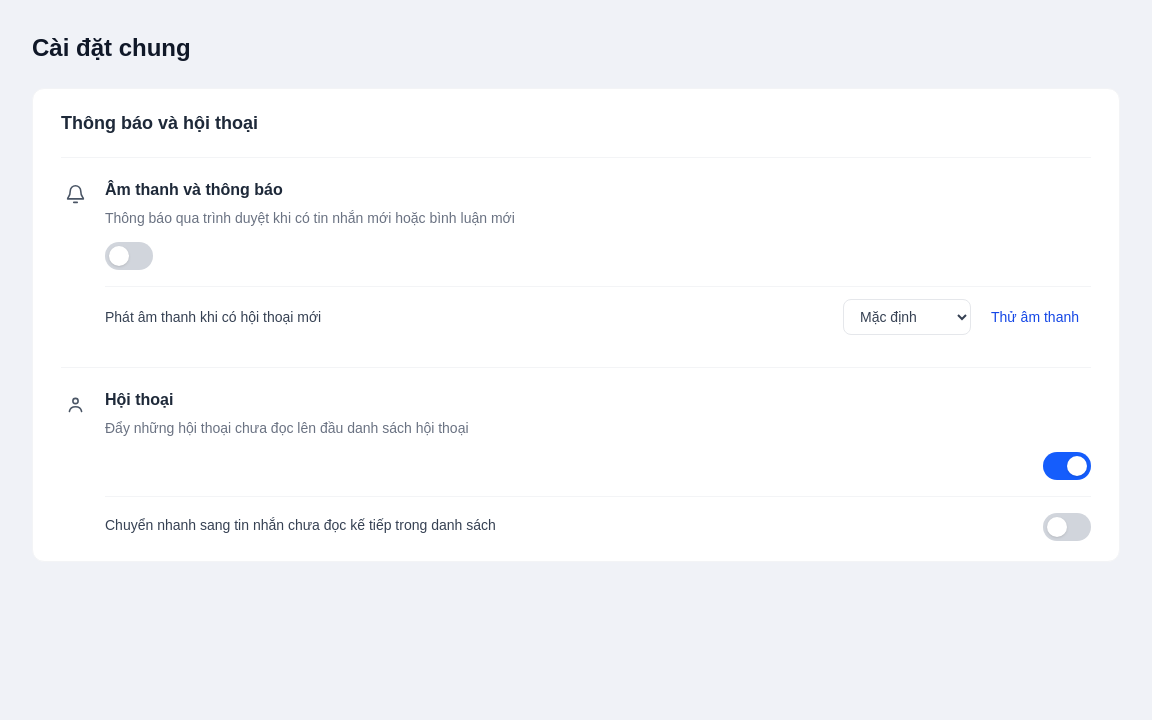
it: GeneralSettingsPanel › shows the accurate notification warning when permission is denied
This screenshot has width=1152, height=720.
Click the switch named "Thông báo khi có tin nhắn hoặc bình luận mới".
click(129, 256)  # box [105,242,153,270]
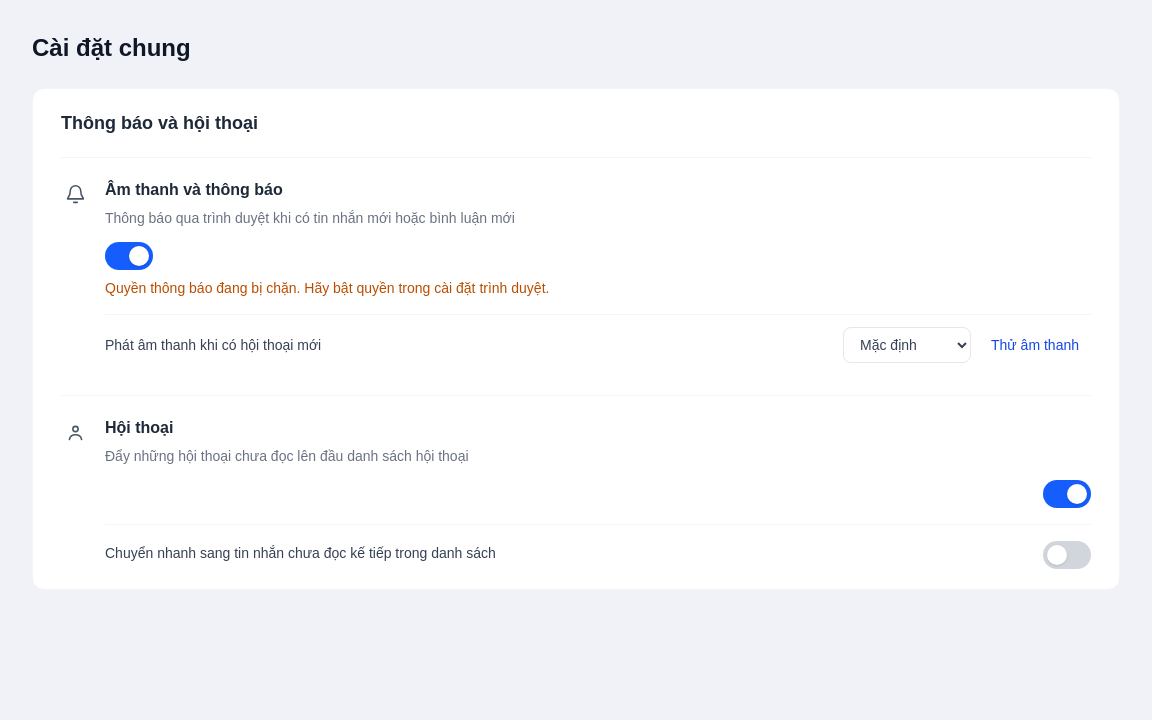
Result: the text "Quyền thông báo đang bị chặn" is shown at [105,280,549,296]
